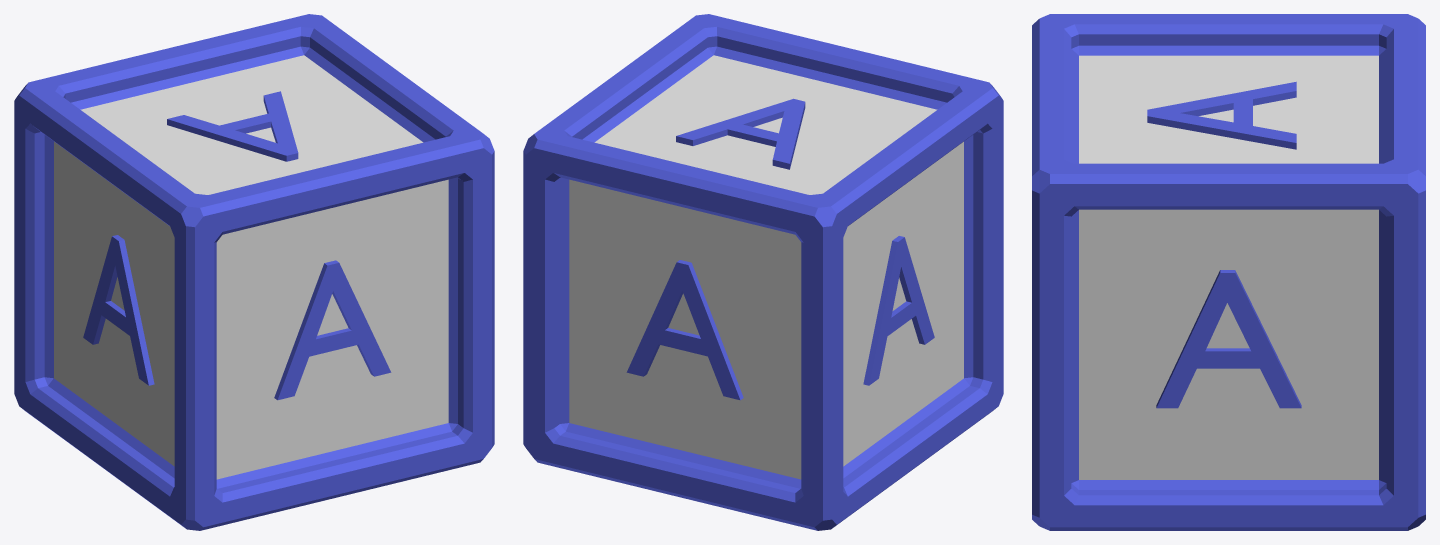
File: CuboMovil.fbx
The picture shows the model from 3 angles, left to right: view 1: azimuth 30°, elevation 25°; view 2: azimuth 150°, elevation 25°; view 3: azimuth 270°, elevation 25°; orthographic projection. The views are drawn at different scales.
Visible parts, largest first — view 1: Cube; view 2: Cube; view 3: Cube.
Boxes of the visible parts, box(x1,y1,x2,y2) form: Cube: box(14, 14, 494, 530); Cube: box(523, 14, 1003, 530); Cube: box(1032, 14, 1425, 530).
Size of the model in its own units: 200 by 200 by 200.
